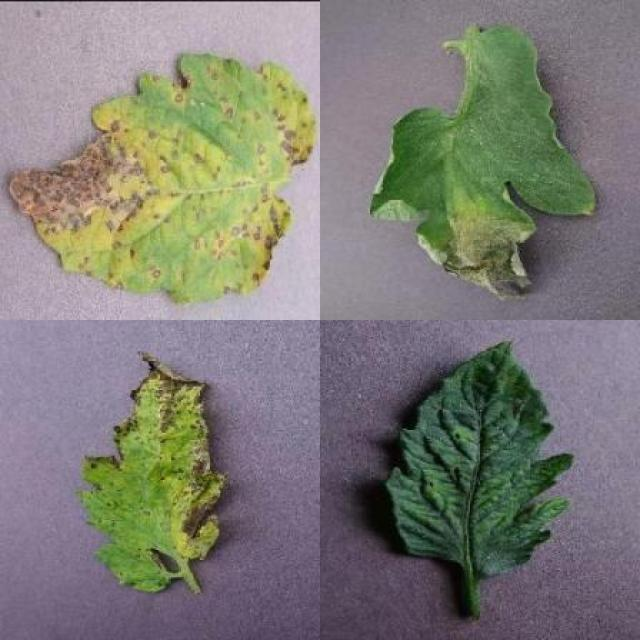Late Blight: (368, 28, 598, 302)
Mosaic Virus: (382, 338, 578, 582)
Septoria: (9, 51, 318, 303), (84, 352, 225, 594)
